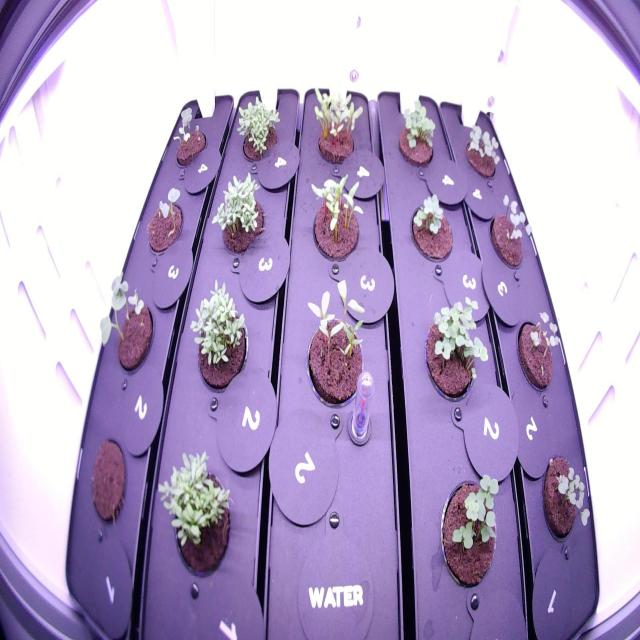germination: (152, 442, 233, 588), (301, 272, 368, 416), (182, 274, 254, 402), (418, 289, 492, 413), (436, 461, 502, 594), (96, 271, 158, 379), (300, 170, 368, 268), (206, 165, 270, 264), (538, 447, 596, 554), (510, 300, 570, 398), (305, 81, 365, 171), (406, 187, 458, 271), (229, 93, 284, 168), (487, 190, 535, 275), (394, 94, 439, 175), (144, 184, 188, 260), (458, 117, 504, 187), (168, 101, 210, 174)
pod: (84, 430, 131, 529)
